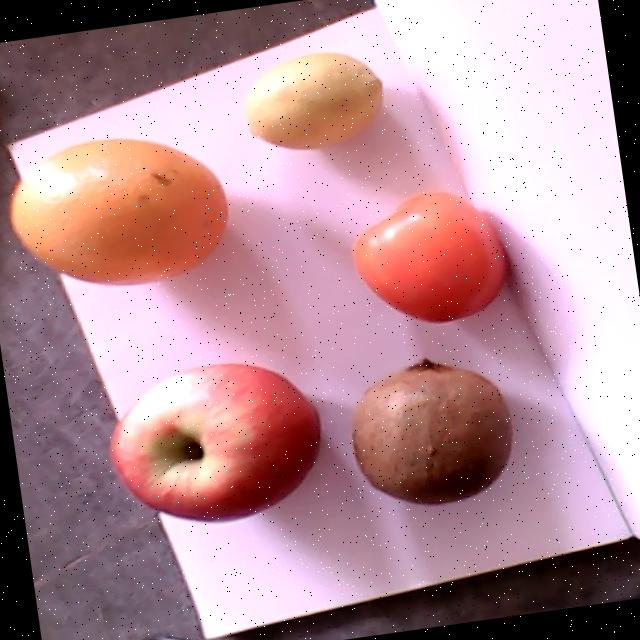apple: (109, 362, 322, 521)
kiwi: (354, 357, 514, 505)
lemon: (248, 52, 383, 149)
orange: (9, 139, 228, 283)
tomato: (353, 191, 509, 321)
